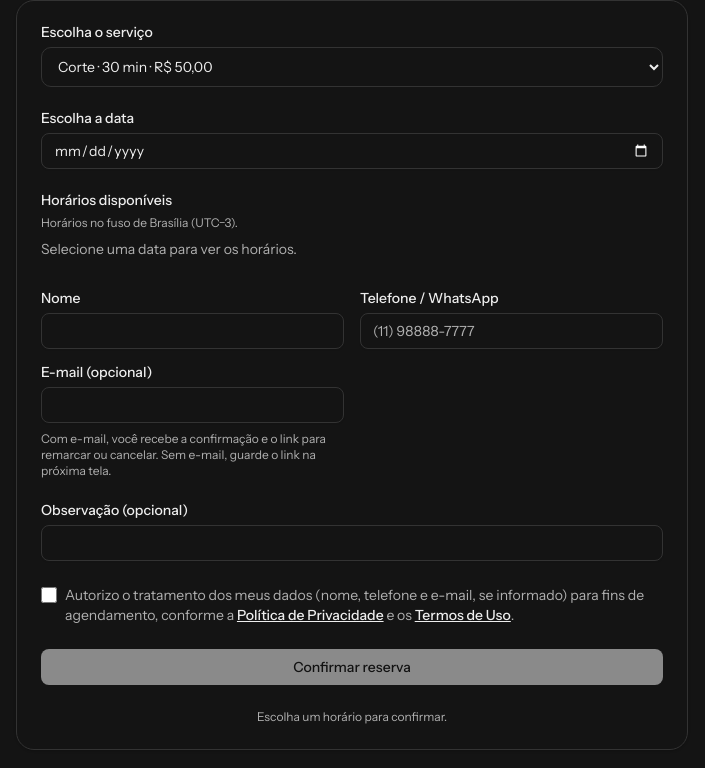
BookingWidget › says the agendamento is unavailable when the slots lookup finds a suspended negócio
Step 1. Type "2026-10-20" into the date field labelled "Escolha a data" → (352, 151), box [41,133,663,169]
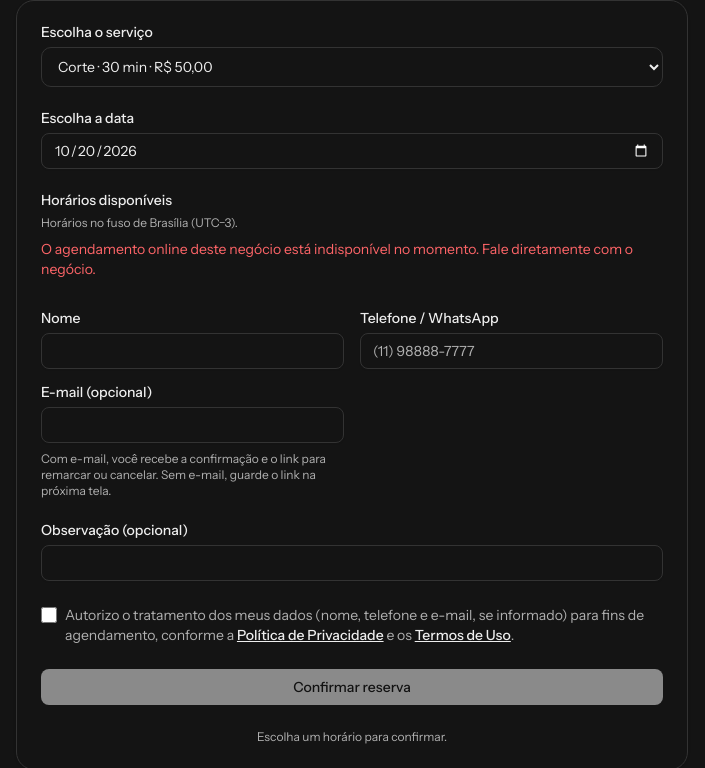
Expected: the text "O agendamento online deste negócio está indisponível" is shown, [41,240,633,278]
